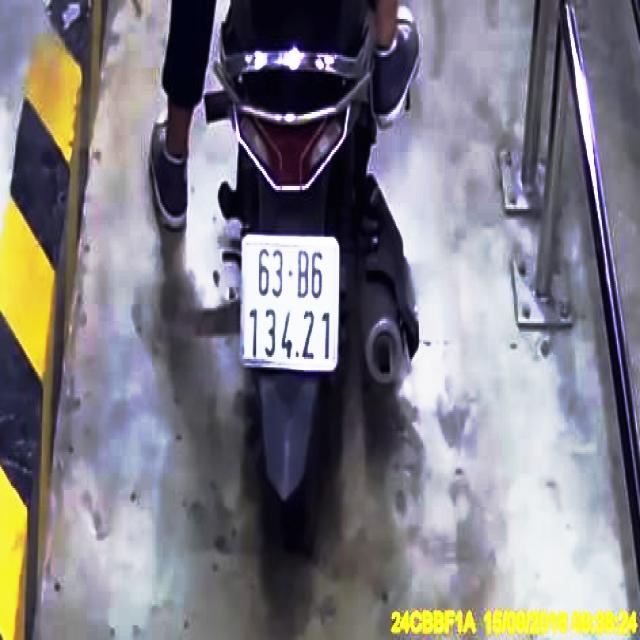license_plate: (241, 240, 341, 369)
